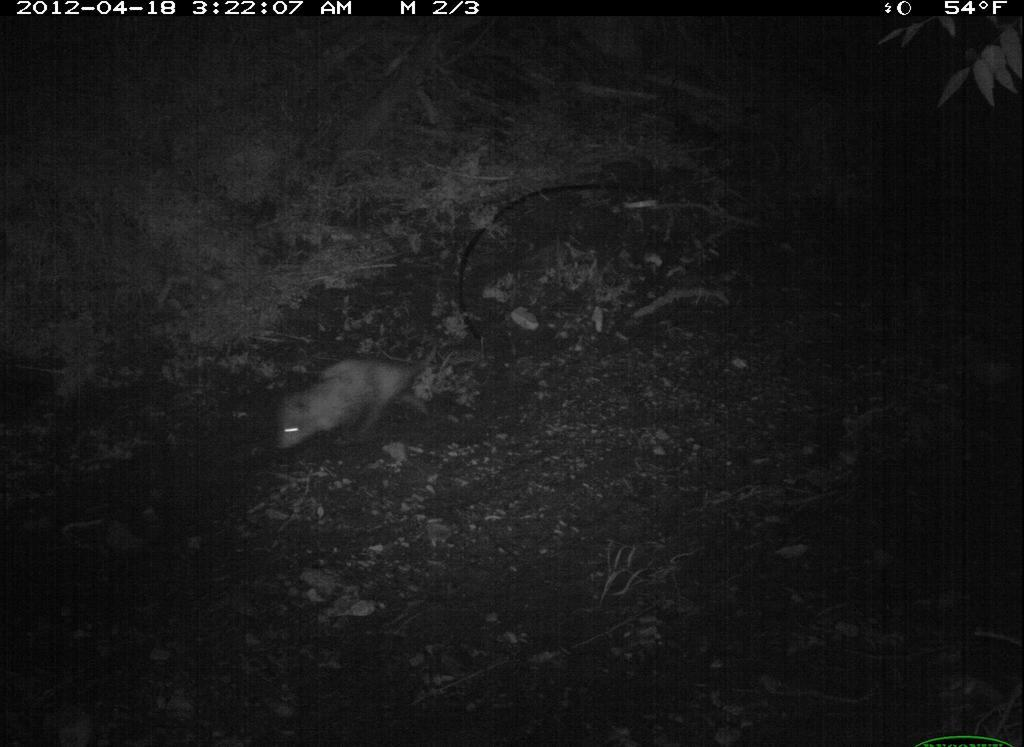opossum: (268, 329, 452, 461)
